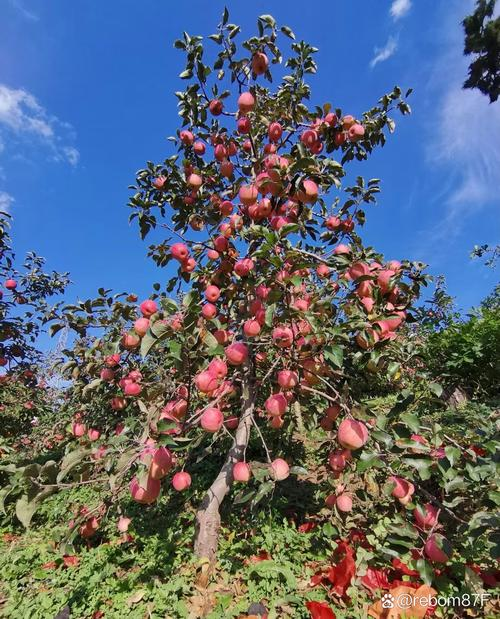ripe: (136, 441, 174, 477), (336, 418, 368, 448), (126, 472, 156, 502), (188, 365, 219, 392), (169, 243, 189, 261), (141, 297, 156, 319)
unripe: (262, 453, 295, 482)
